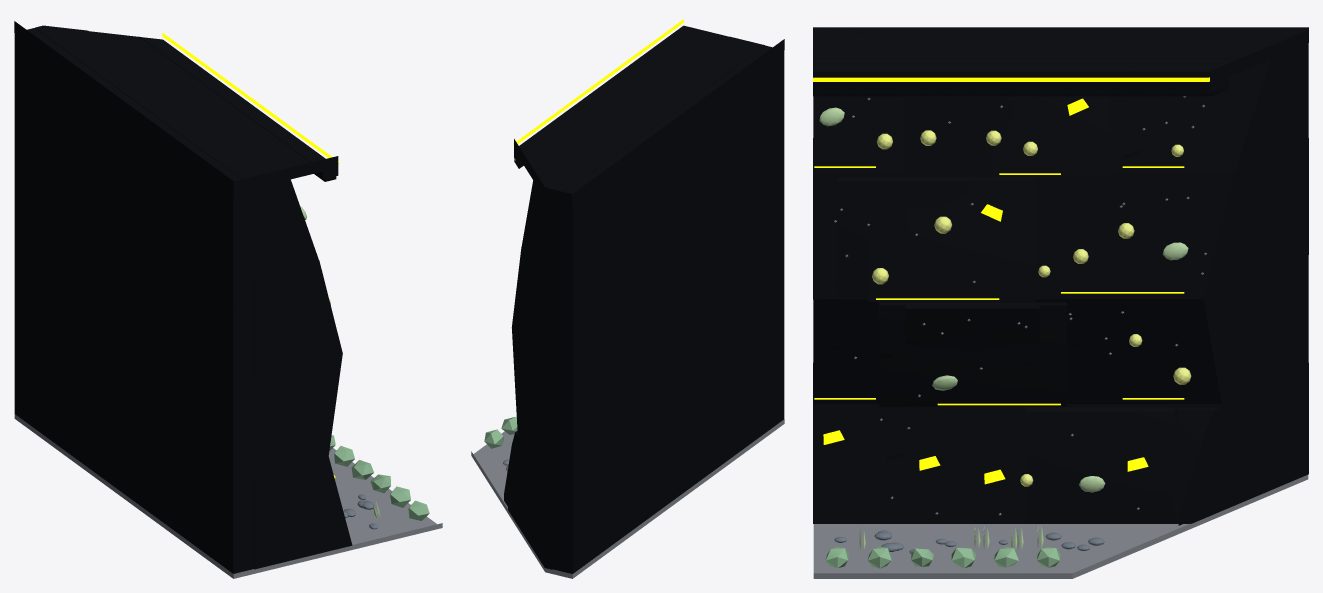
The model's file is tt_plinth_skirt_mitre_ne.glb.
3 renders of one model, left to right at view 1: azimuth 30°, elevation 25°; view 2: azimuth 150°, elevation 25°; view 3: azimuth 270°, elevation 25°, orthographic. The views are drawn at different scales.
Visible parts, largest first — view 1: Skirt_Core, Cap_Course, Course3_Facets, Course0_Facets, Course1_Facets, Course2_Facets, Base_Mat, Moss_Edge, Cap_Court_Line; view 2: Skirt_Core, Cap_Course, Course3_Facets, Course0_Facets, Course1_Facets, Course2_Facets, Base_Mat, Cap_Court_Line, Moss_Edge; view 3: Course2_Facets, Course0_Facets, Course1_Facets, Course3_Facets, Cap_Course, Base_Mat, Tennis_Ball_Holds, Moss_Edge, Cap_Court_Line, Seam_Tape, Sloper_Holds, Jug_Holds (+2 smaller).
Part boxes in pixels (x1,y1,x2,y2): Skirt_Core: (14,33,253,573); Cap_Course: (14,21,338,193); Course3_Facets: (35,25,318,275); Course0_Facets: (254,456,352,569); Course1_Facets: (253,354,342,474); Course2_Facets: (254,260,342,375); Base_Mat: (14,414,442,578); Moss_Edge: (329,435,429,520); Cap_Court_Line: (162,33,338,164); Skirt_Core: (552,50,784,573); Cap_Course: (514,25,784,205); Course3_Facets: (521,36,764,285); Course0_Facets: (504,431,552,569); Course1_Facets: (512,329,552,477); Course2_Facets: (511,247,552,381); Base_Mat: (471,419,784,578); Cap_Court_Line: (513,19,683,146); Moss_Edge: (484,417,517,448); Course2_Facets: (813,138,1308,301); Course0_Facets: (813,363,1308,525); Course1_Facets: (813,255,1308,406); Course3_Facets: (813,38,1308,177); Cap_Course: (813,27,1308,93); Base_Mat: (813,475,1308,578); Tennis_Ball_Holds: (872,130,1191,486); Moss_Edge: (825,546,1060,568); Cap_Court_Line: (813,77,1209,81); Seam_Tape: (814,166,1184,405); Sloper_Holds: (819,107,1188,492); Jug_Holds: (823,98,1148,484).
Size of what is drawn, in the model's own units: 2.2 by 4 by 4.
8 materials, 3 textured.
